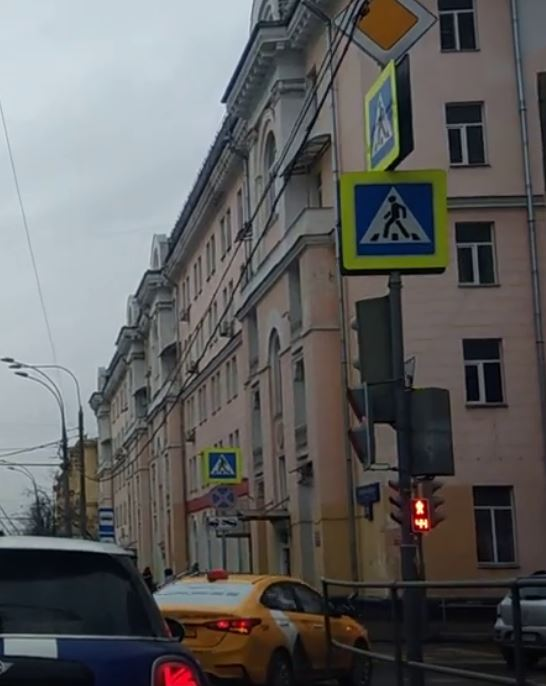Yaya Gecidi: (354, 179, 438, 255)
